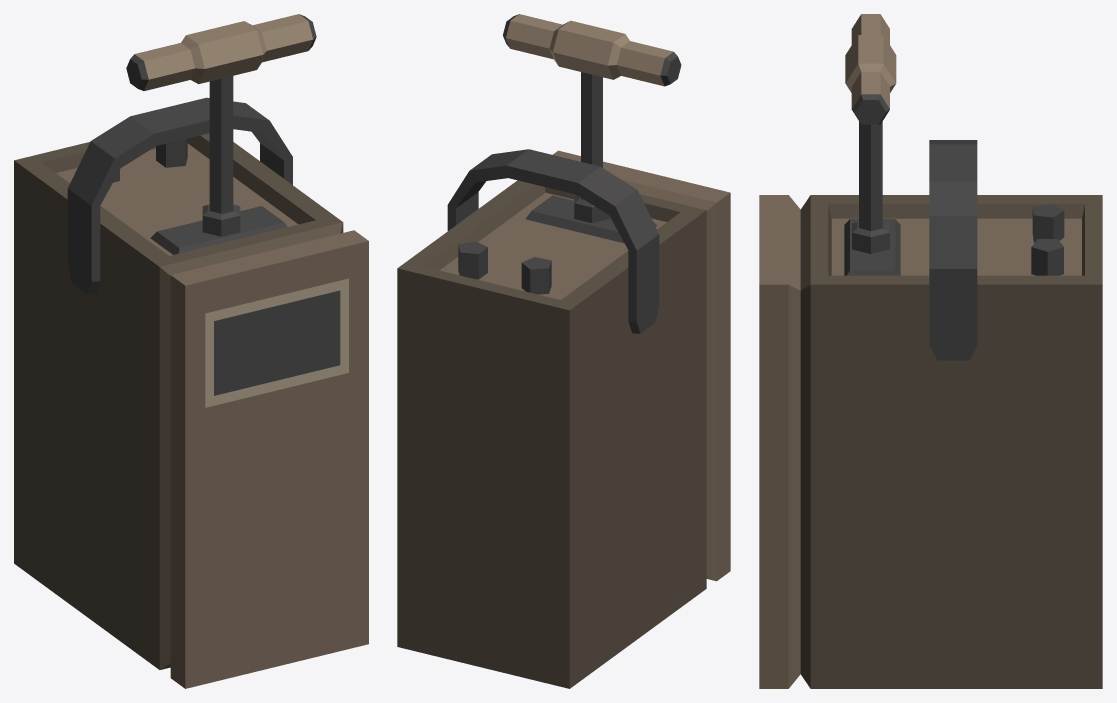
Rendered from SM_Prop_Tnt_Detonator_01.glb.
3 views of the same model, side by side, from view 1: azimuth 30°, elevation 25°; view 2: azimuth 150°, elevation 25°; view 3: azimuth 270°, elevation 25° (orthographic). The views are drawn at different scales.
Parts seen in each view (by area): view 1: SM_Prop_Tnt_Detonator_01, SM_Prop_Tnt_Detonator_Handle_01; view 2: SM_Prop_Tnt_Detonator_01, SM_Prop_Tnt_Detonator_Handle_01; view 3: SM_Prop_Tnt_Detonator_01, SM_Prop_Tnt_Detonator_Handle_01.
Part boxes in pixels (x1,y1,x2,y2): SM_Prop_Tnt_Detonator_01: (14,97,368,688); SM_Prop_Tnt_Detonator_Handle_01: (126,14,316,213); SM_Prop_Tnt_Detonator_01: (397,149,730,688); SM_Prop_Tnt_Detonator_Handle_01: (503,14,681,199); SM_Prop_Tnt_Detonator_01: (759,140,1102,688); SM_Prop_Tnt_Detonator_Handle_01: (845,14,896,230).
Size of the model in its own units: 0.1997 by 0.5623 by 0.2945.
2 materials, 2 textured.
